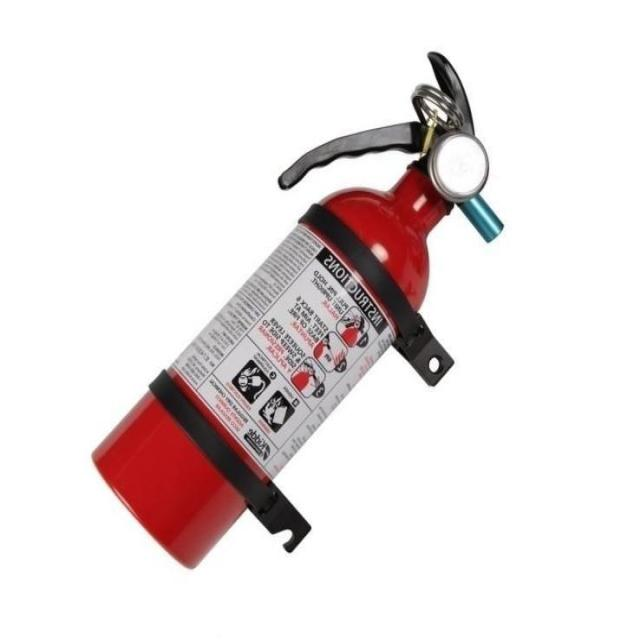fire_extinguisher: (84, 41, 516, 580)
